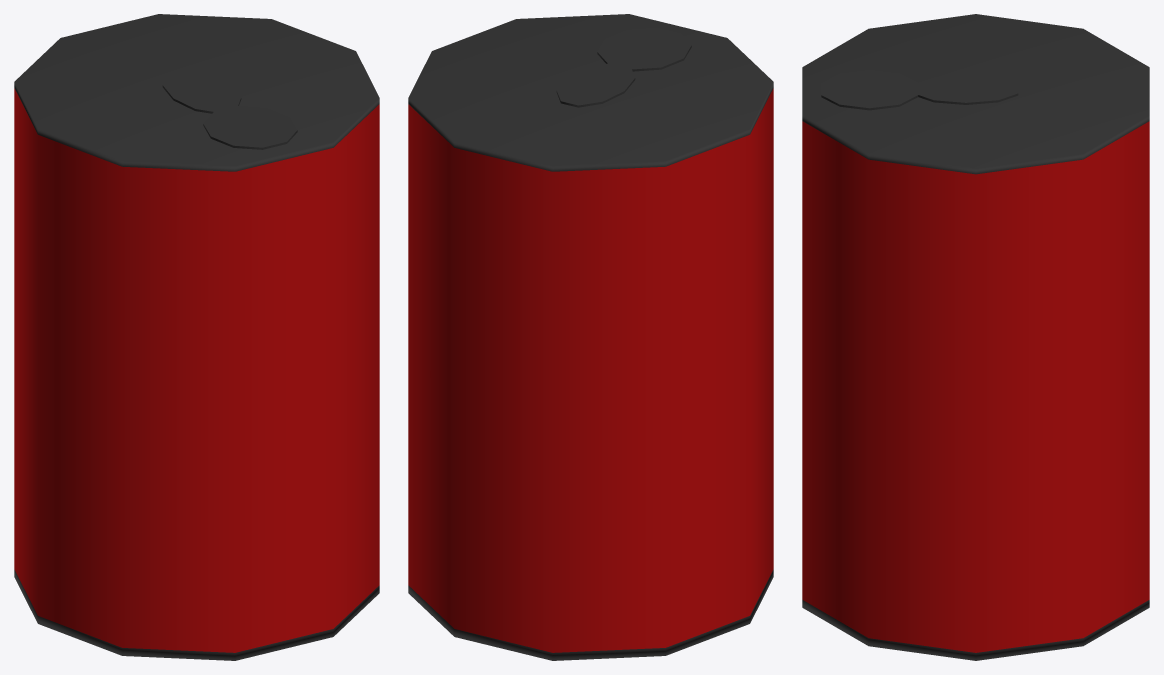
The model's file is Hotdog RedCan.fbx.
3 views of the same model, side by side, from view 1: azimuth 30°, elevation 25°; view 2: azimuth 150°, elevation 25°; view 3: azimuth 270°, elevation 25° (orthographic).
Visible parts, largest first — view 1: pasted__polySurface345; view 2: pasted__polySurface345; view 3: pasted__polySurface345.
Part boxes in pixels (bbox=[...]): pasted__polySurface345: bbox=[14, 14, 379, 660]; pasted__polySurface345: bbox=[408, 14, 773, 660]; pasted__polySurface345: bbox=[802, 14, 1149, 660].
Size of the model in its own units: 0.1097 by 0.1638 by 0.1043.
